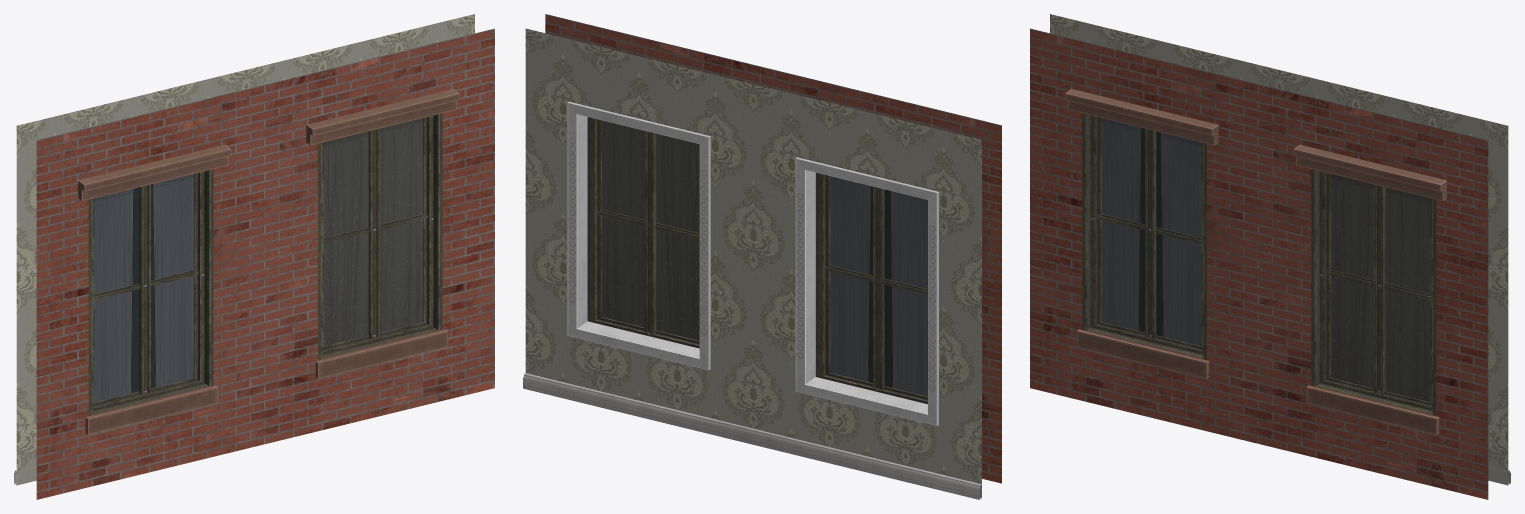
The model's file is House_07_Windows_01.fbx.
3 renders of one model, left to right at view 1: azimuth 30°, elevation 25°; view 2: azimuth 150°, elevation 25°; view 3: azimuth 330°, elevation 25°, orthographic.
Visible parts, largest first — view 1: House_07_Windows_01_LOD0; view 2: House_07_Windows_01_LOD0; view 3: House_07_Windows_01_LOD0.
Boxes of the visible parts, <box> form: House_07_Windows_01_LOD0: <box>14,14,494,499</box>; House_07_Windows_01_LOD0: <box>523,14,1001,499</box>; House_07_Windows_01_LOD0: <box>1030,14,1510,499</box>.
Size of what is drawn, in the model's own units: 400 by 300 by 43.29.
